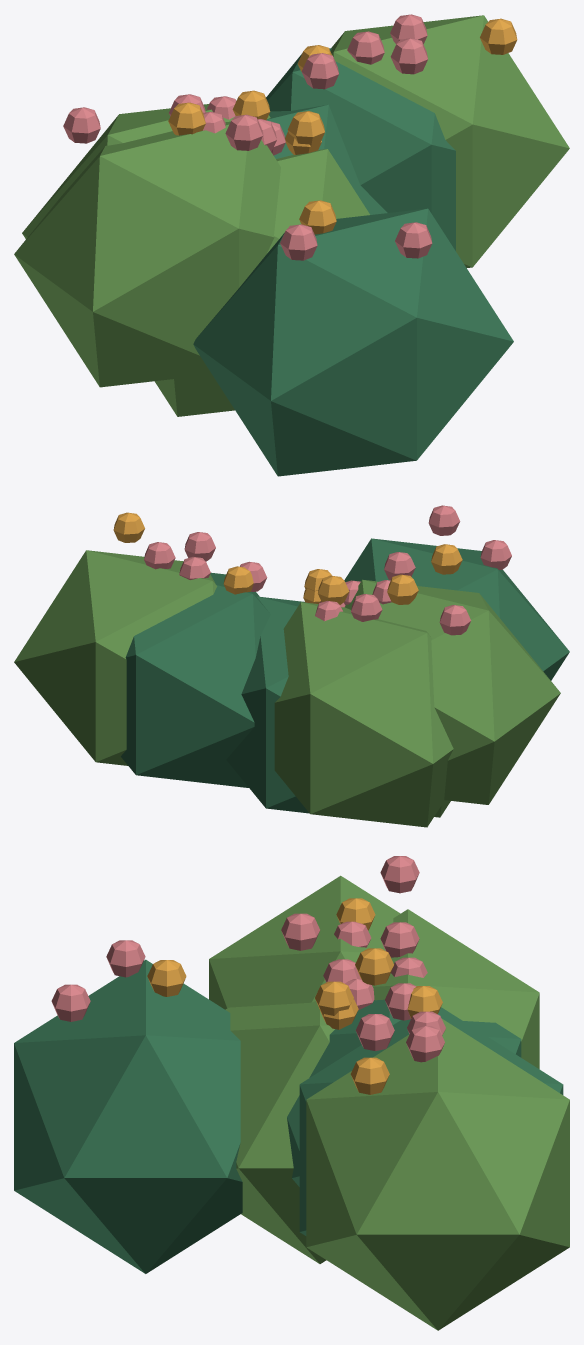
Rendered from bush_flowering.glb.
3 renders of one model, top to bottom at view 1: azimuth 30°, elevation 25°; view 2: azimuth 150°, elevation 25°; view 3: azimuth 270°, elevation 25°, orthographic. The views are drawn at different scales.
Parts seen in each view (by area): view 1: 0_leaf, 0_jade, 0_pink, 0_gold; view 2: 0_leaf, 0_jade, 0_pink, 0_gold; view 3: 0_leaf, 0_jade, 0_pink, 0_gold.
Boxes of the visible parts, bbox=[...] form: 0_leaf: bbox=[14, 15, 569, 416]; 0_jade: bbox=[193, 48, 513, 476]; 0_pink: bbox=[63, 14, 432, 260]; 0_gold: bbox=[168, 18, 517, 234]; 0_leaf: bbox=[14, 550, 560, 827]; 0_jade: bbox=[121, 538, 569, 813]; 0_pink: bbox=[144, 505, 511, 635]; 0_gold: bbox=[113, 512, 462, 604]; 0_leaf: bbox=[209, 875, 569, 1330]; 0_jade: bbox=[14, 959, 563, 1273]; 0_pink: bbox=[51, 856, 445, 1062]; 0_gold: bbox=[147, 898, 442, 1094].
Bounding box in the file's own units: 2.02 × 1.09 × 1.79.
